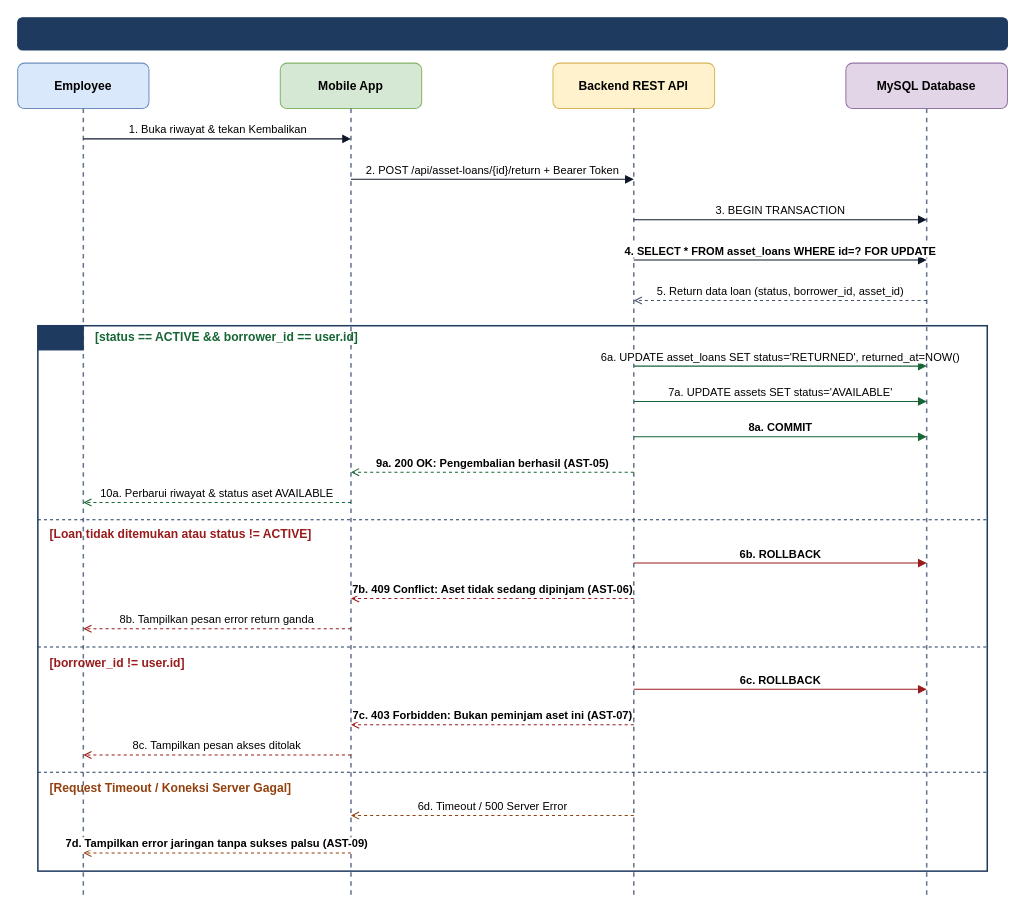
The diagram is 1025 pixels wide and 916 high, and some of its shapes have lost their labels. The centre of each missing label's shape, as x and y in pixels:
alt: point 60,337
Sequence Diagram — Pengembalian Aset (AST-05, AST-06, AST-07, AST-09): point 512,33
